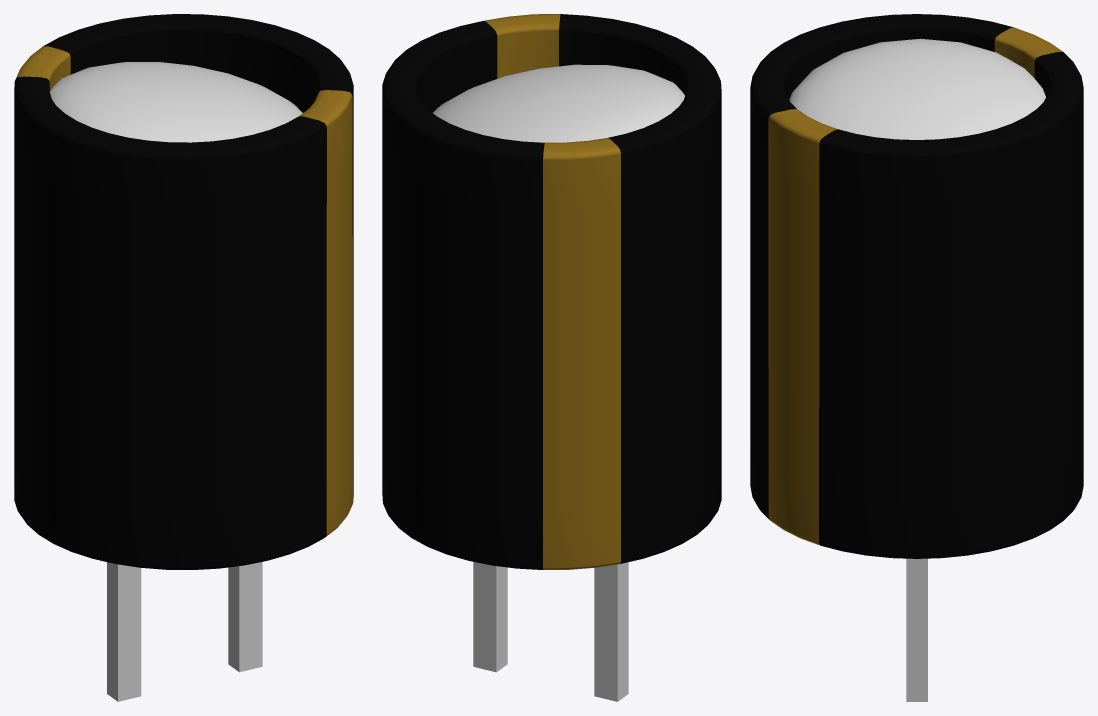
The model's file is SM_TrashCan.fbx.
3 renders of one model, left to right at view 1: azimuth 30°, elevation 25°; view 2: azimuth 150°, elevation 25°; view 3: azimuth 270°, elevation 25°, orthographic. The views are drawn at different scales.
Parts seen in each view (by area): view 1: DD_TrashCan_pPipe1, DD_TrashCan_pSphere1, DD_TrashCan_pCube1, pasted__pCube1; view 2: DD_TrashCan_pPipe1, DD_TrashCan_pSphere1, DD_TrashCan_pCube1, pasted__pCube1; view 3: DD_TrashCan_pPipe1, DD_TrashCan_pSphere1, pasted__pCube1.
Part boxes in pixels (x1,y1,x2,y2): DD_TrashCan_pPipe1: (14,14,353,569); DD_TrashCan_pSphere1: (50,62,302,142); DD_TrashCan_pCube1: (107,562,141,701); pasted__pCube1: (228,562,262,672); DD_TrashCan_pPipe1: (382,14,721,569); DD_TrashCan_pSphere1: (433,64,684,142); DD_TrashCan_pCube1: (594,562,628,701); pasted__pCube1: (473,562,507,672); DD_TrashCan_pPipe1: (750,14,1083,558); DD_TrashCan_pSphere1: (789,38,1045,139); pasted__pCube1: (906,558,927,701).
Bounding box in the file's own units: 1.91 × 3.71 × 1.91.
